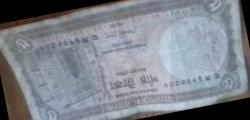5 taka: (13, 2, 239, 118)
